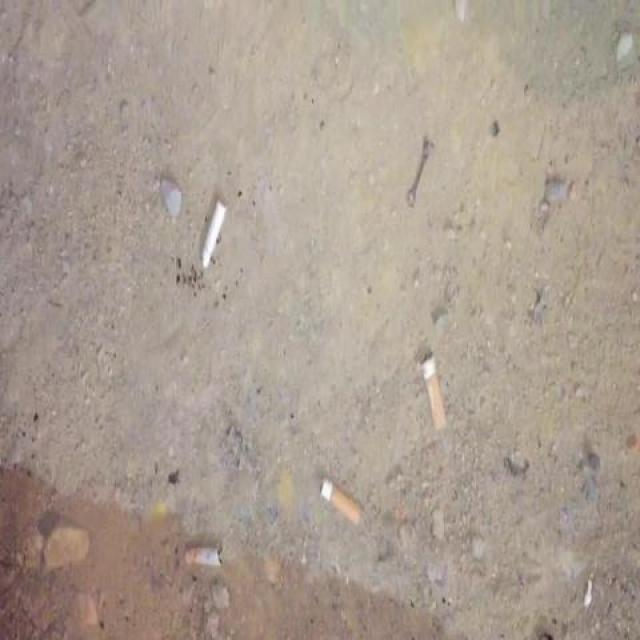non-organic waste: (316, 474, 372, 534), (418, 348, 455, 436), (195, 198, 229, 273)
